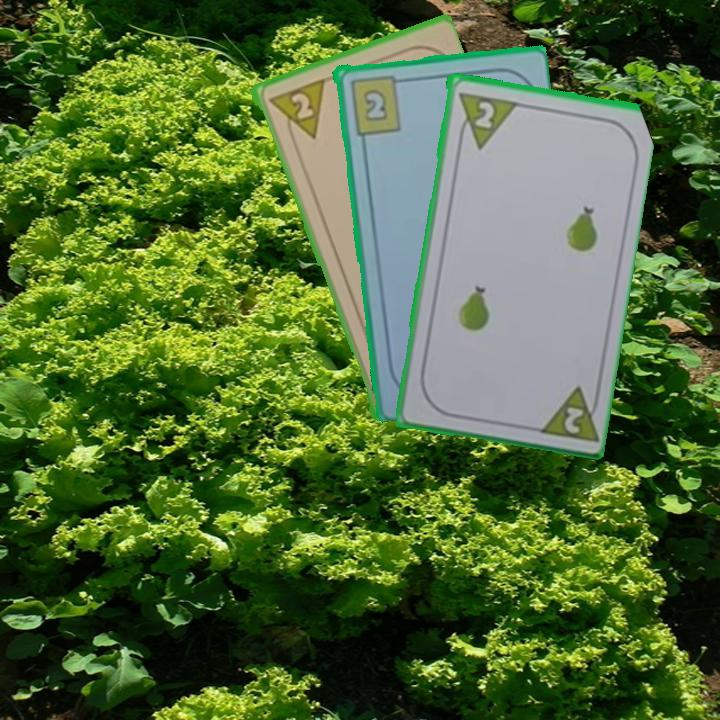2b: (346, 71, 407, 137)
2p: (532, 381, 604, 445), (264, 75, 327, 147), (453, 88, 518, 151)
